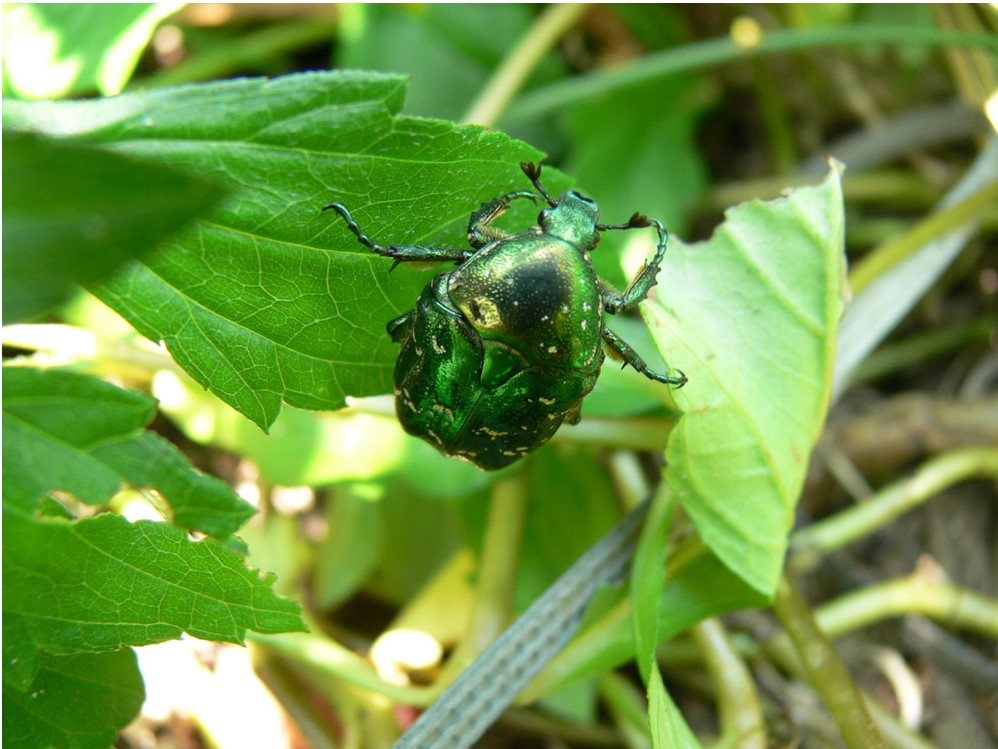Protaetia _orientalis: (322, 156, 692, 472)
